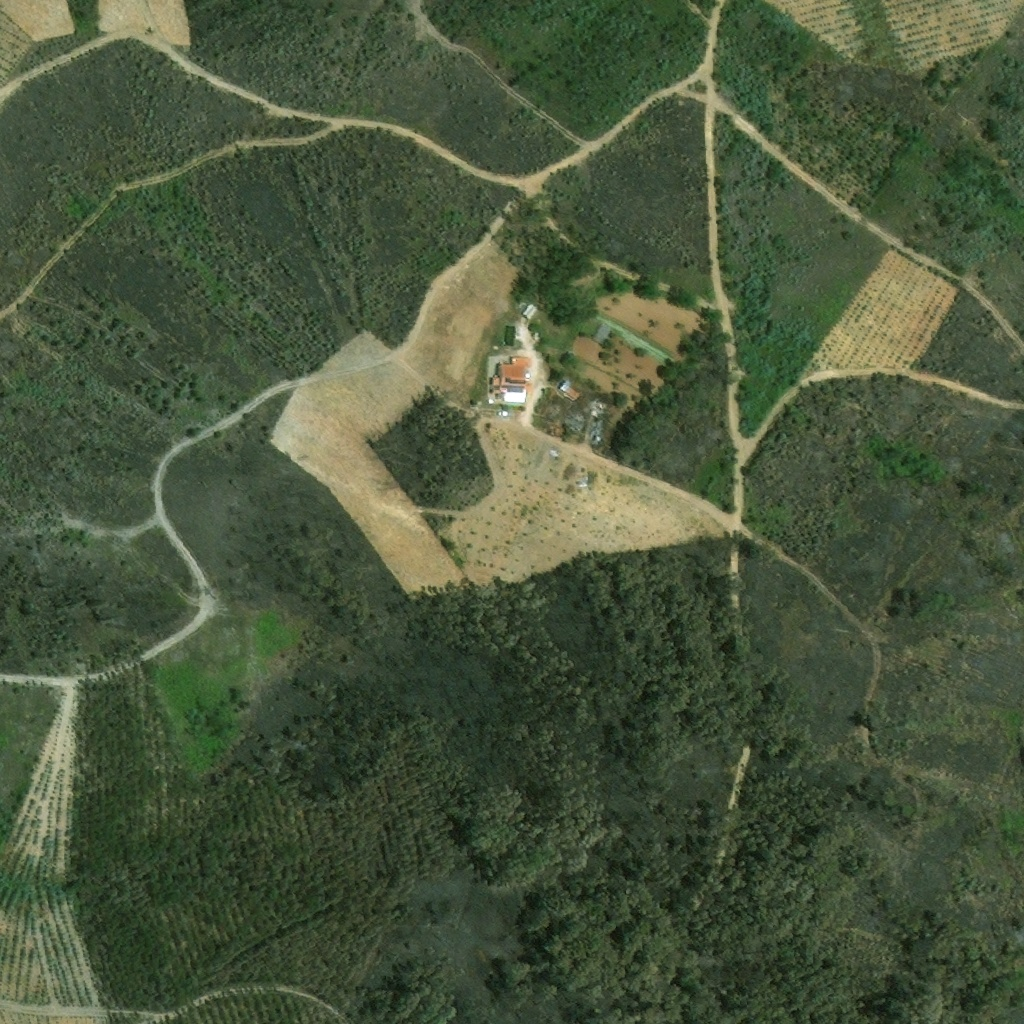0 no-damage: (490, 356, 532, 402), (556, 379, 582, 403), (591, 321, 613, 347), (521, 303, 537, 321), (531, 331, 542, 343)
3 destroyed: (572, 360, 619, 393), (550, 416, 568, 439), (592, 418, 607, 442), (568, 417, 586, 431), (591, 400, 609, 414), (551, 407, 567, 418)
